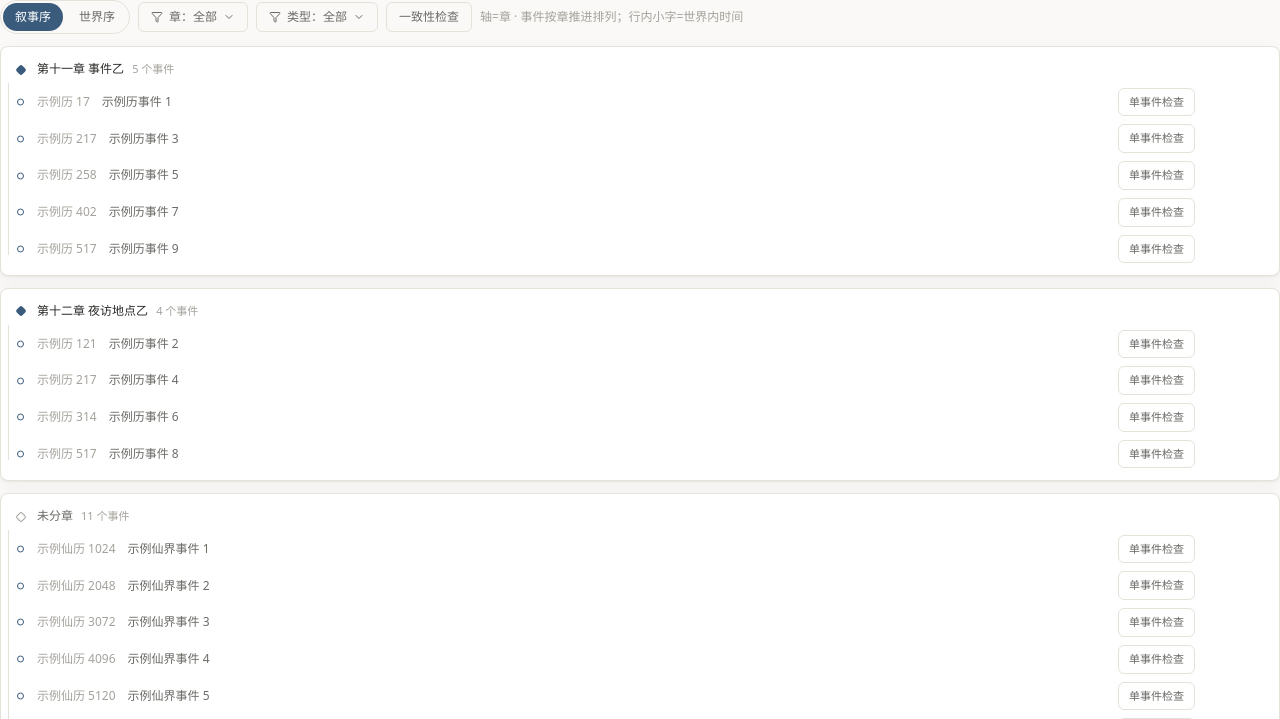
#1564 世界序刻度带 v2（组件级） › C7 既有不回归：来源章胶囊 / 单事件检查 / 一致性检查 / 筛选 / 事件行悬停态
Click the button with test id "tl-view-world".
click(97, 17)  # box top-left (67, 3), bottom-right (127, 31)
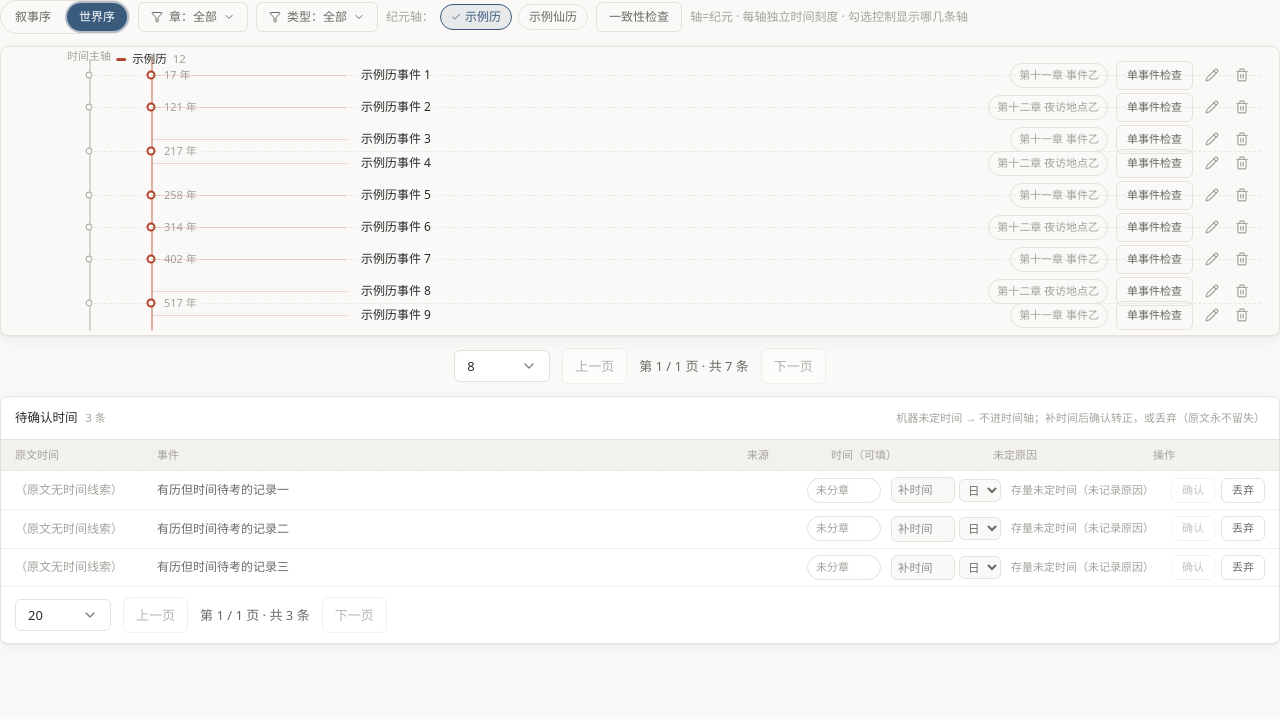
Expected: the button with test id "tl-check-one-q1" is shown, top-left (1116, 61), bottom-right (1193, 90)
Expected: the text with test id "tl-src-q1" is shown, top-left (1010, 63), bottom-right (1108, 88)
